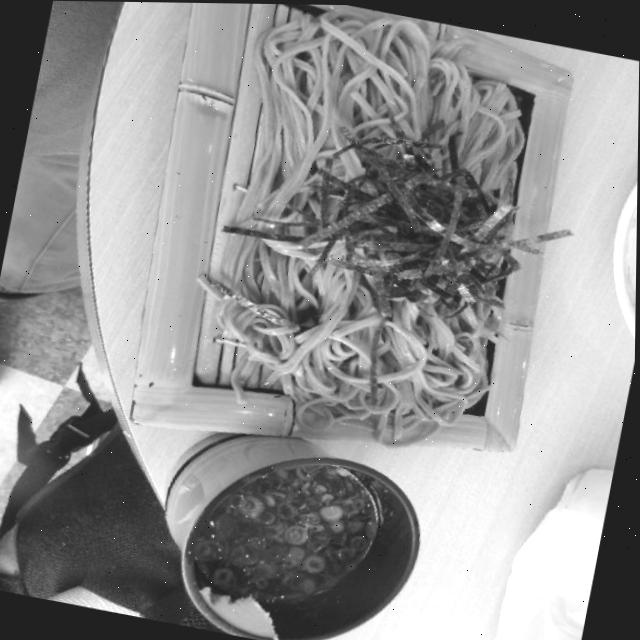面条主食: (117, 1, 590, 536)
